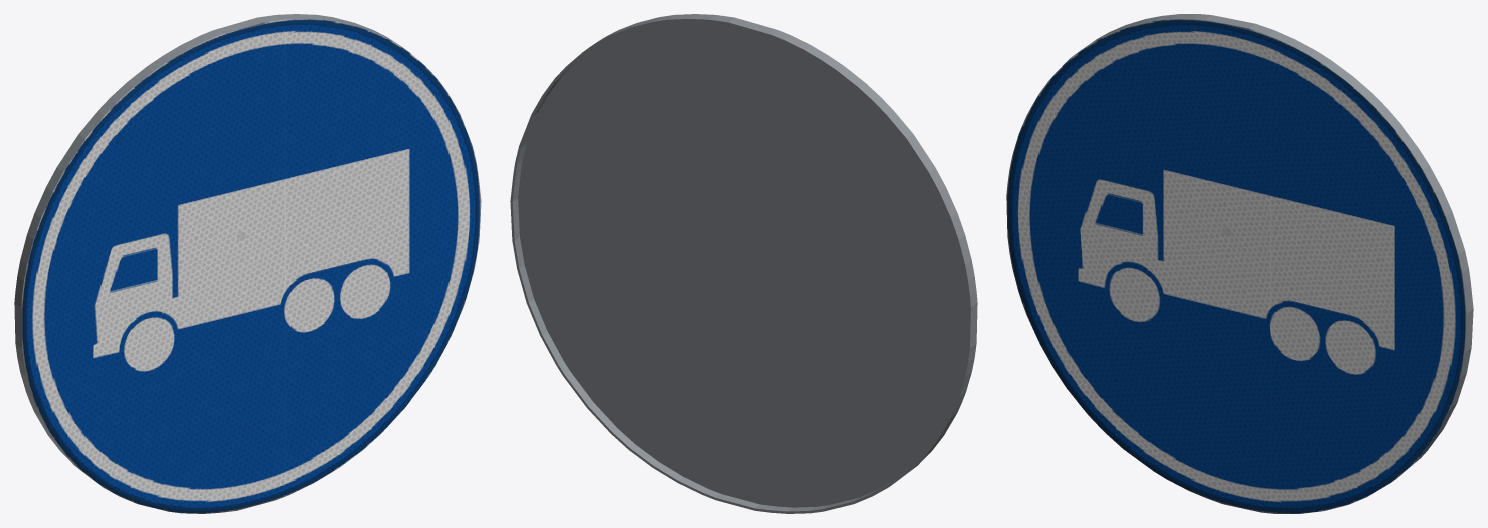
3 views of the same model, side by side, from view 1: azimuth 30°, elevation 25°; view 2: azimuth 150°, elevation 25°; view 3: azimuth 330°, elevation 25° (orthographic).
Parts seen in each view (by area): view 1: cat_bbd00d49897c51fd; view 2: cat_bbd00d49897c51fd; view 3: cat_bbd00d49897c51fd.
Part boxes in pixels (left/top/right/bottom): cat_bbd00d49897c51fd: left=14, top=14, right=481, bottom=513; cat_bbd00d49897c51fd: left=510, top=14, right=977, bottom=513; cat_bbd00d49897c51fd: left=1006, top=14, right=1473, bottom=513.
Size of the model in its own units: 0.6 by 0.015 by 0.6.
Materials: 2 (1 with a texture image).
